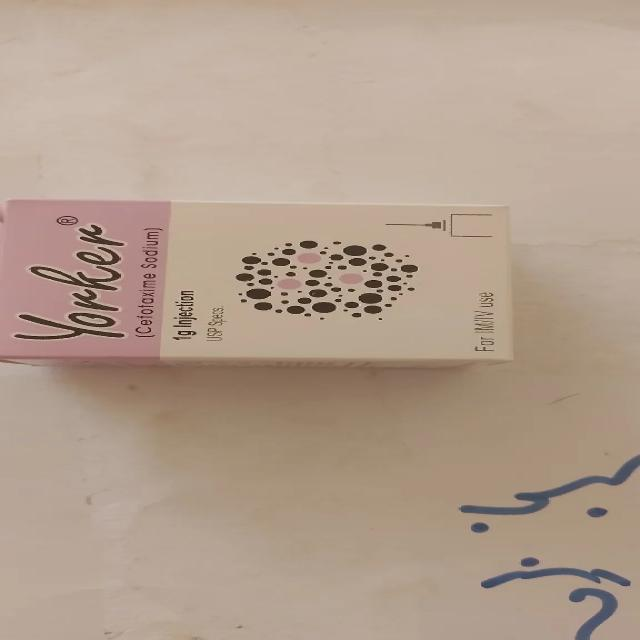drug-name: (16, 205, 133, 346)
